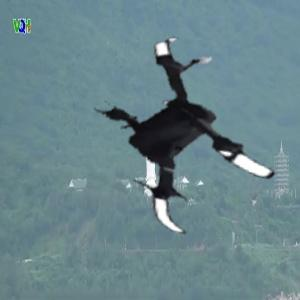drone: (71, 22, 288, 239)
